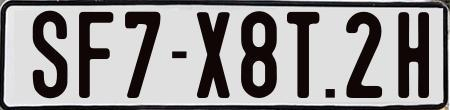2: (346, 9, 382, 95)
7: (123, 11, 158, 102)
8: (240, 9, 276, 101)
F: (76, 11, 111, 101)
H: (397, 12, 432, 104)
S: (30, 11, 66, 99)
T: (286, 9, 324, 99)
X: (197, 10, 230, 98)
